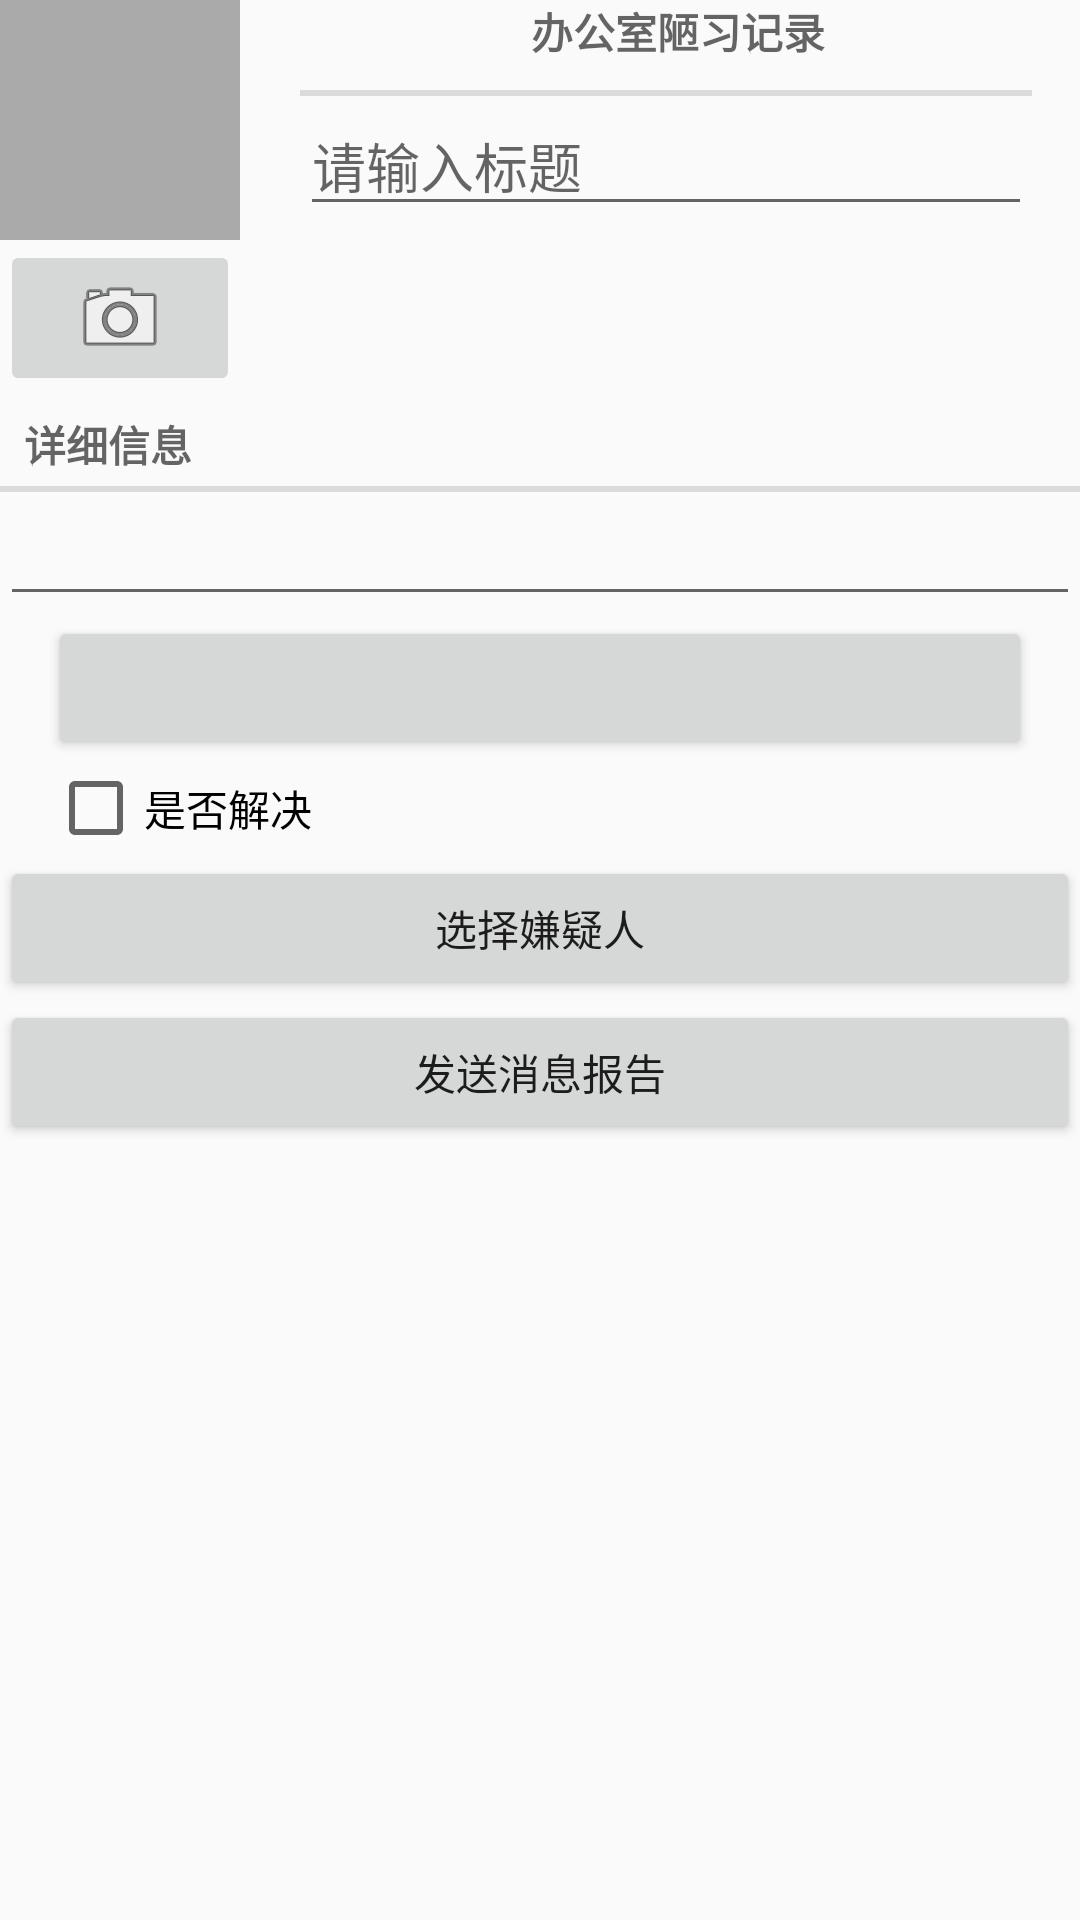

Named icons in this screenshot (1080px×1920px) and their centers, (x=x, y=y):
camera: (x=120, y=318)
